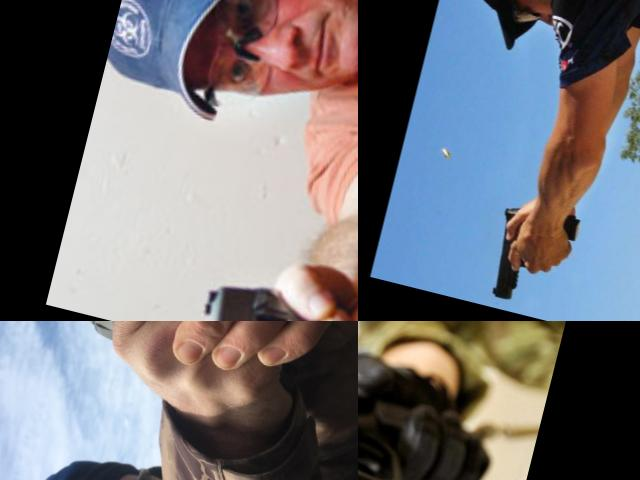handgun: (0, 321, 257, 472), (358, 340, 492, 480), (482, 194, 584, 313), (193, 262, 358, 321)
